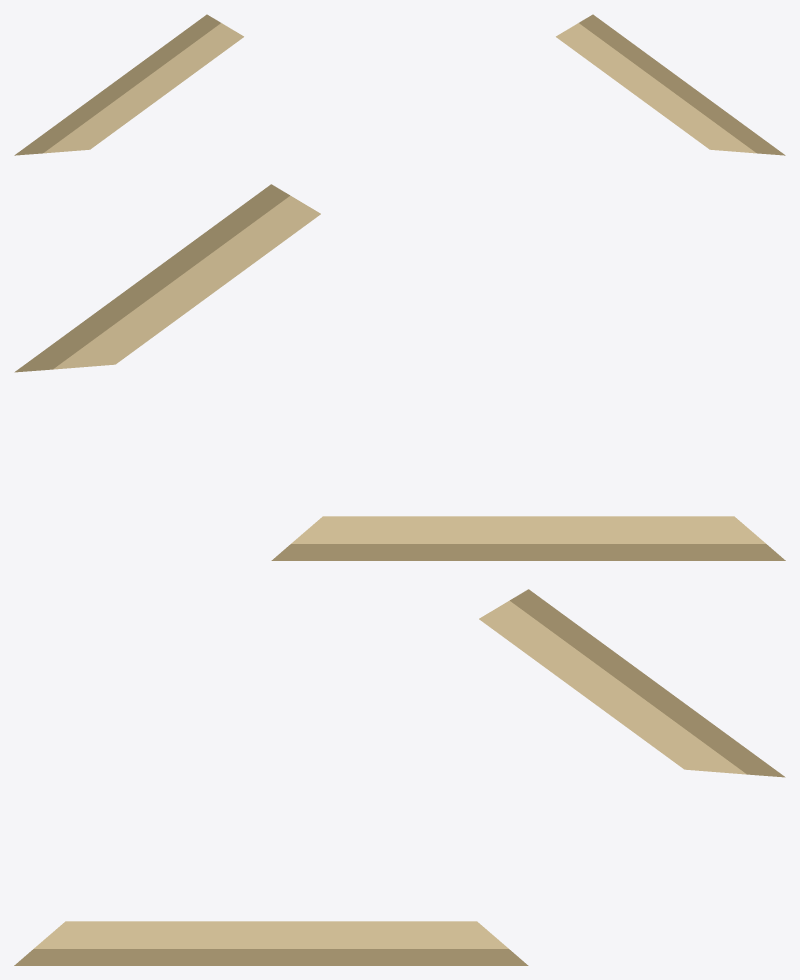
File: SHORE_05.fbx
3 views of the same model, one above another, from view 1: azimuth 30°, elevation 25°; view 2: azimuth 150°, elevation 25°; view 3: azimuth 270°, elevation 25° (orthographic). The views are drawn at different scales.
Visible parts, largest first — view 1: Beach.003, Beach.004, Wet_sand.003, Wet_sand.004; view 2: Beach.004, Beach.003, Wet_sand.004, Wet_sand.003; view 3: Beach.003, Beach.004, Wet_sand.003, Wet_sand.004.
Part boxes in pixels (x1=…): Beach.003: x1=556, y1=23, x2=756, y2=153; Beach.004: x1=43, y1=23, x2=243, y2=153; Wet_sand.003: x1=579, y1=14, x2=785, y2=155; Wet_sand.004: x1=14, y1=14, x2=220, y2=155; Beach.004: x1=291, y1=516, x2=765, y2=543; Beach.003: x1=53, y1=195, x2=320, y2=369; Wet_sand.004: x1=271, y1=544, x2=785, y2=560; Wet_sand.003: x1=14, y1=184, x2=289, y2=372; Beach.003: x1=34, y1=921, x2=508, y2=948; Beach.004: x1=479, y1=600, x2=746, y2=774; Wet_sand.003: x1=14, y1=949, x2=528, y2=965; Wet_sand.004: x1=510, y1=589, x2=785, y2=777.
Bounding box in the file's own units: 173 × 1.6 × 150.
